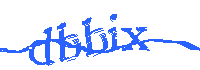b: (56, 21, 81, 65), (83, 16, 108, 60)
d: (28, 26, 53, 67)
i: (108, 11, 120, 54)
x: (121, 26, 151, 51)
